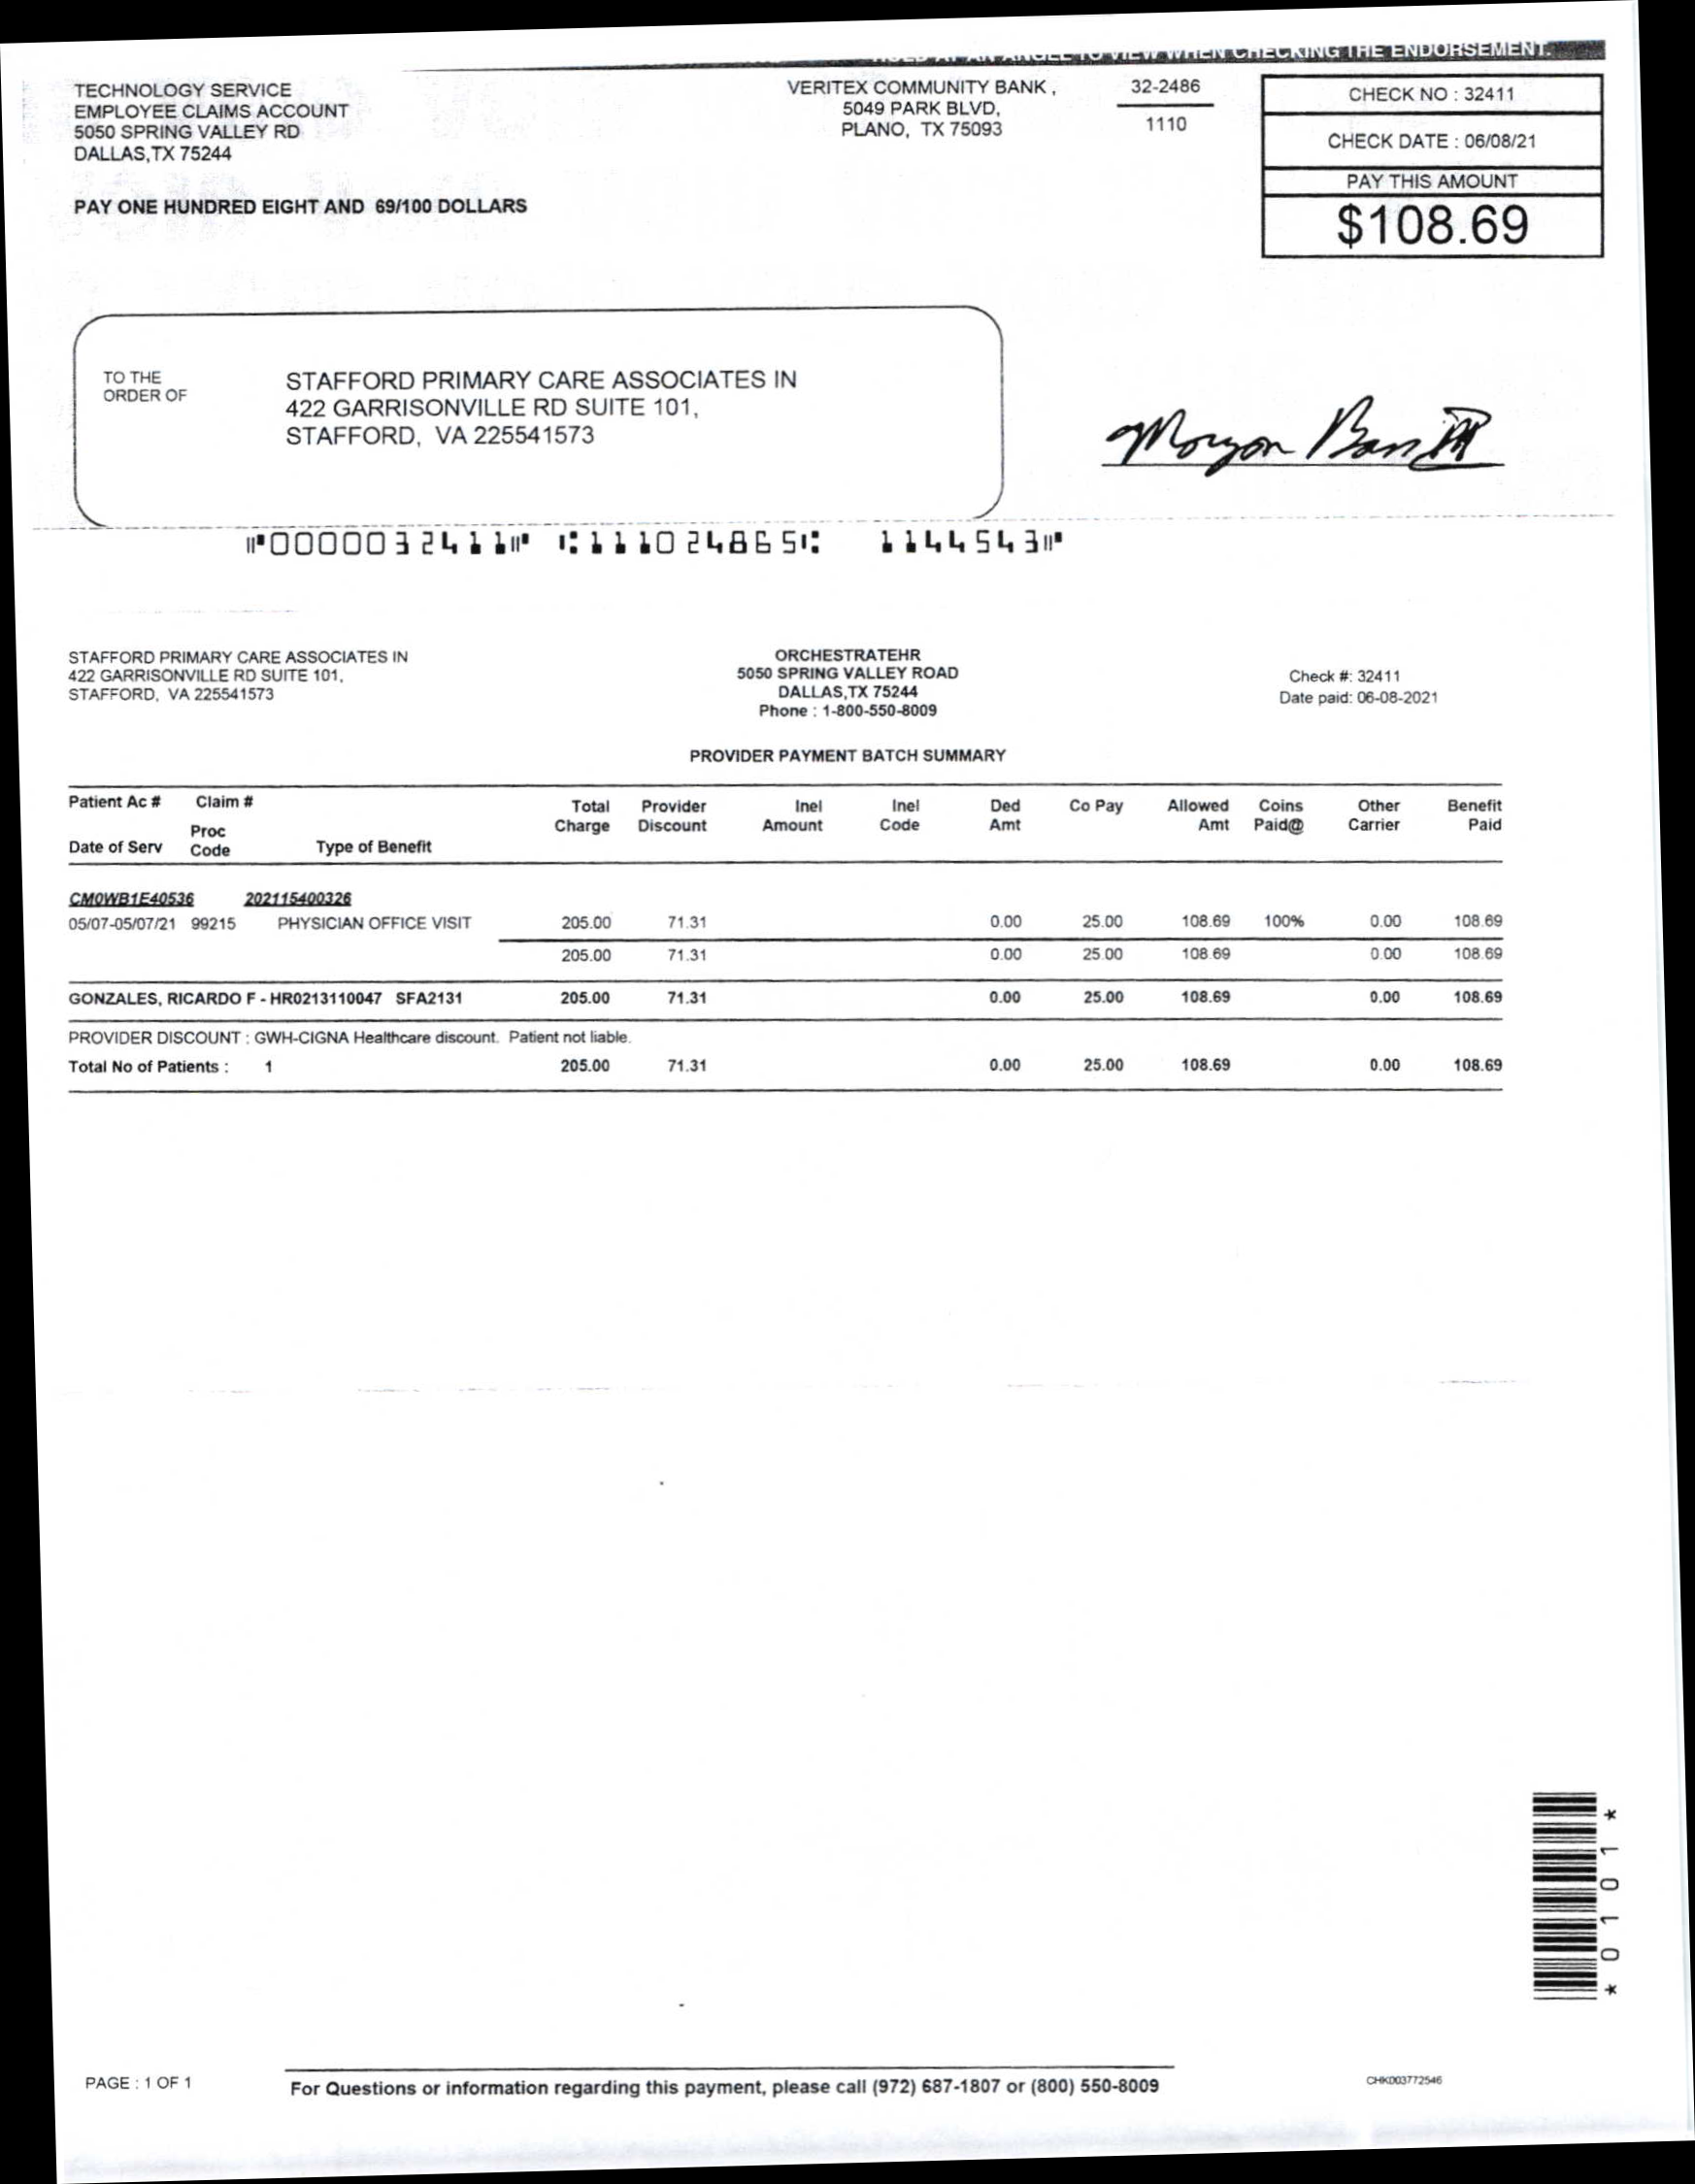table: (55, 760, 1537, 1117)
